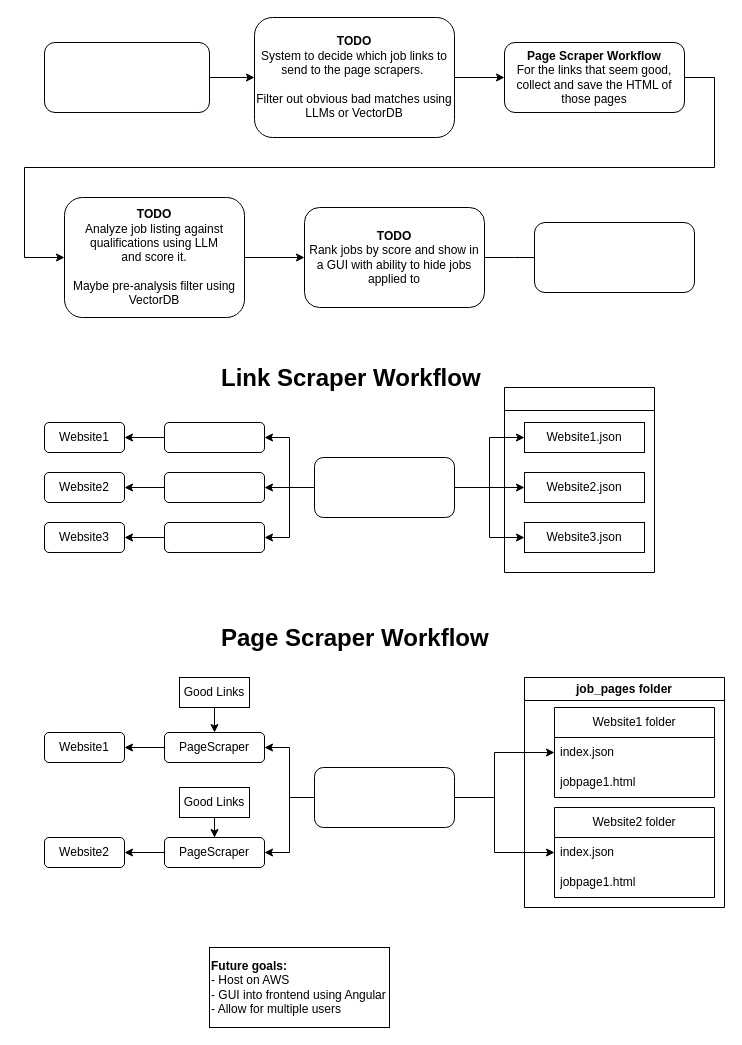
This 742x1045 diagram has some shape labels left out. The centre of each missing label's shape, as x and y in pixels:
job_links folder: the point at 579,479
Link Scraper Workflow Scrape links to job posting from interesting websites: the point at 127,77
LinkScraper1: the point at 214,437
LinkScraper2: the point at 214,487
LinkScraper3: the point at 214,537
LinkScraperController runs scrapers concurrently: the point at 384,487
PageScraperController runs scrapers concurrently: the point at 384,797
TODO Feed into my resume and cover letter tailoring tool: the point at 614,257
